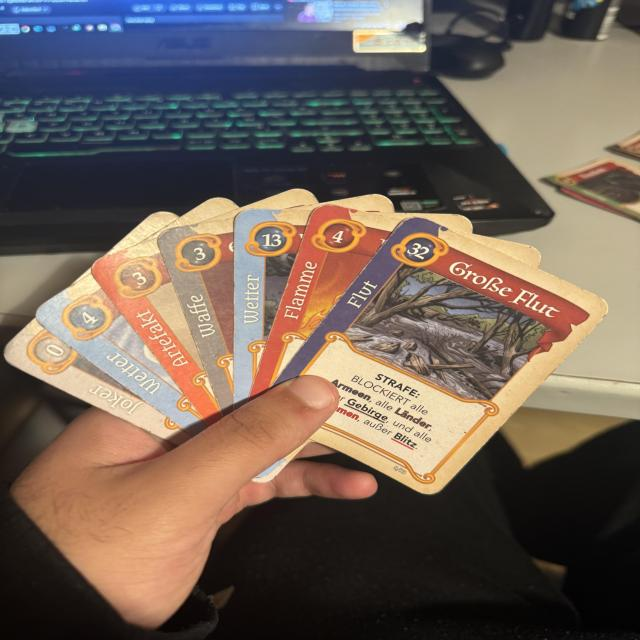Air Elemental: (35, 274, 209, 434)
Book Of Changes: (90, 239, 223, 429)
Doppelganger: (3, 320, 192, 445)
Elven Longbow: (156, 218, 233, 418)
Fire Elemental: (252, 204, 398, 399)
Great Flood: (273, 212, 617, 498)
Whirlwind: (234, 210, 311, 413)
